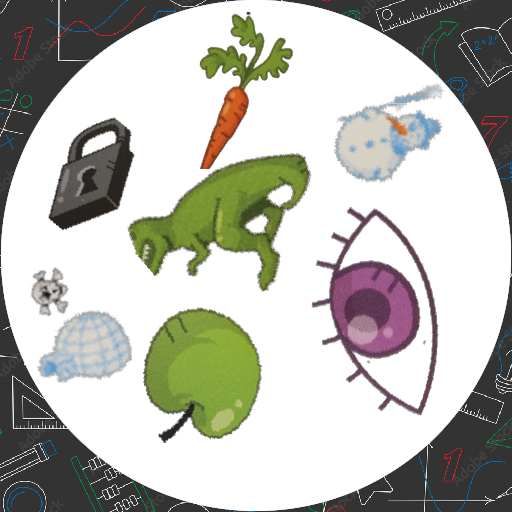apple_icon: (140, 303, 280, 443)
carrot_icon: (168, 12, 325, 169)
dino_icon: (125, 110, 316, 301)
eye_icon: (276, 205, 492, 421)
igloo_icon: (33, 304, 132, 403)
lock_icon: (30, 115, 150, 235)
skull_icon: (22, 264, 76, 318)
snowman_icon: (328, 62, 455, 189)
